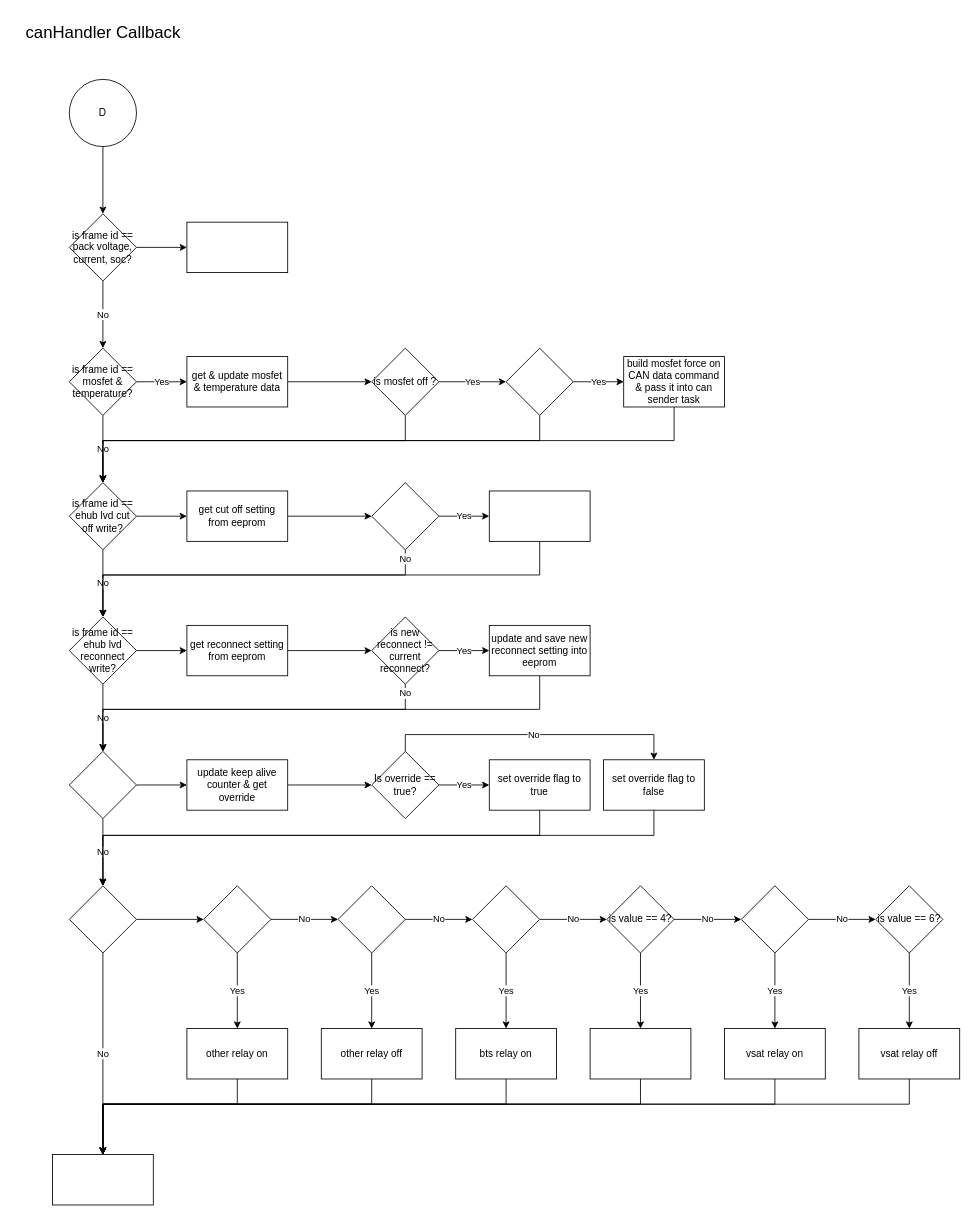
The diagram is 974 pixels wide and 1220 high, and some of its shapes have lost their labels. Each missing label, with the box of its shape:
bts relay off: (589, 1028, 691, 1079)
get & update voltage, current & soc: (186, 221, 288, 273)
is frame id == ehub write relay?: (68, 885, 136, 953)
is frame id == keep alive?: (68, 751, 136, 819)
is mosfet temperature < 50 && not overriden?: (505, 347, 573, 415)
is new cut off != current cut off?: (371, 482, 439, 550)
is value == 1 ?: (203, 885, 271, 953)
is value == 2?: (337, 885, 405, 953)
is value == 3?: (472, 885, 540, 953)
is value == 5?: (740, 885, 808, 953)
return: (52, 1154, 153, 1205)
update and save new cut off setting into eeprom: (488, 490, 590, 541)
